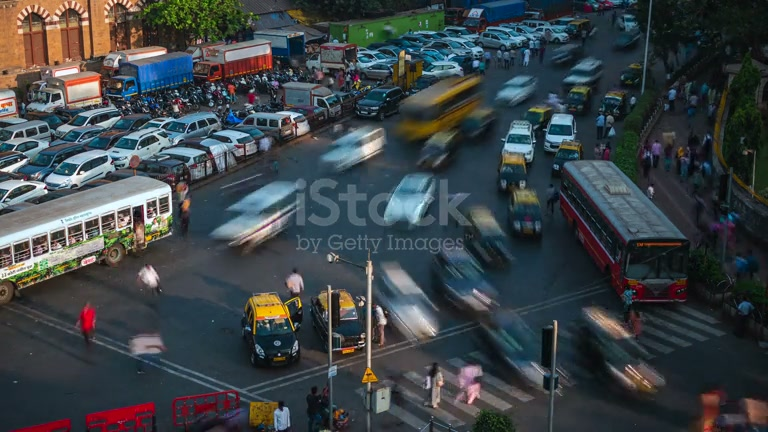bus: (0, 171, 174, 304), (557, 158, 691, 306), (396, 72, 482, 144), (102, 47, 194, 108), (23, 71, 103, 126), (189, 40, 273, 84)
car: (581, 304, 666, 403), (208, 179, 305, 255), (371, 258, 442, 342), (430, 246, 502, 321), (447, 193, 515, 271), (240, 292, 301, 368), (318, 122, 387, 174), (383, 172, 439, 229), (42, 150, 115, 192), (170, 390, 244, 431), (50, 105, 125, 143), (157, 144, 216, 182), (415, 128, 464, 171), (246, 110, 311, 142), (107, 132, 163, 169), (506, 186, 544, 240), (186, 136, 233, 175), (354, 86, 406, 120), (210, 128, 262, 161), (501, 119, 537, 166), (0, 180, 49, 213), (493, 74, 539, 108), (459, 105, 498, 142), (543, 113, 578, 154), (551, 139, 584, 174)
pedestrian: (78, 301, 97, 346), (136, 263, 162, 295), (306, 386, 322, 431), (285, 268, 305, 296), (273, 400, 291, 431)
